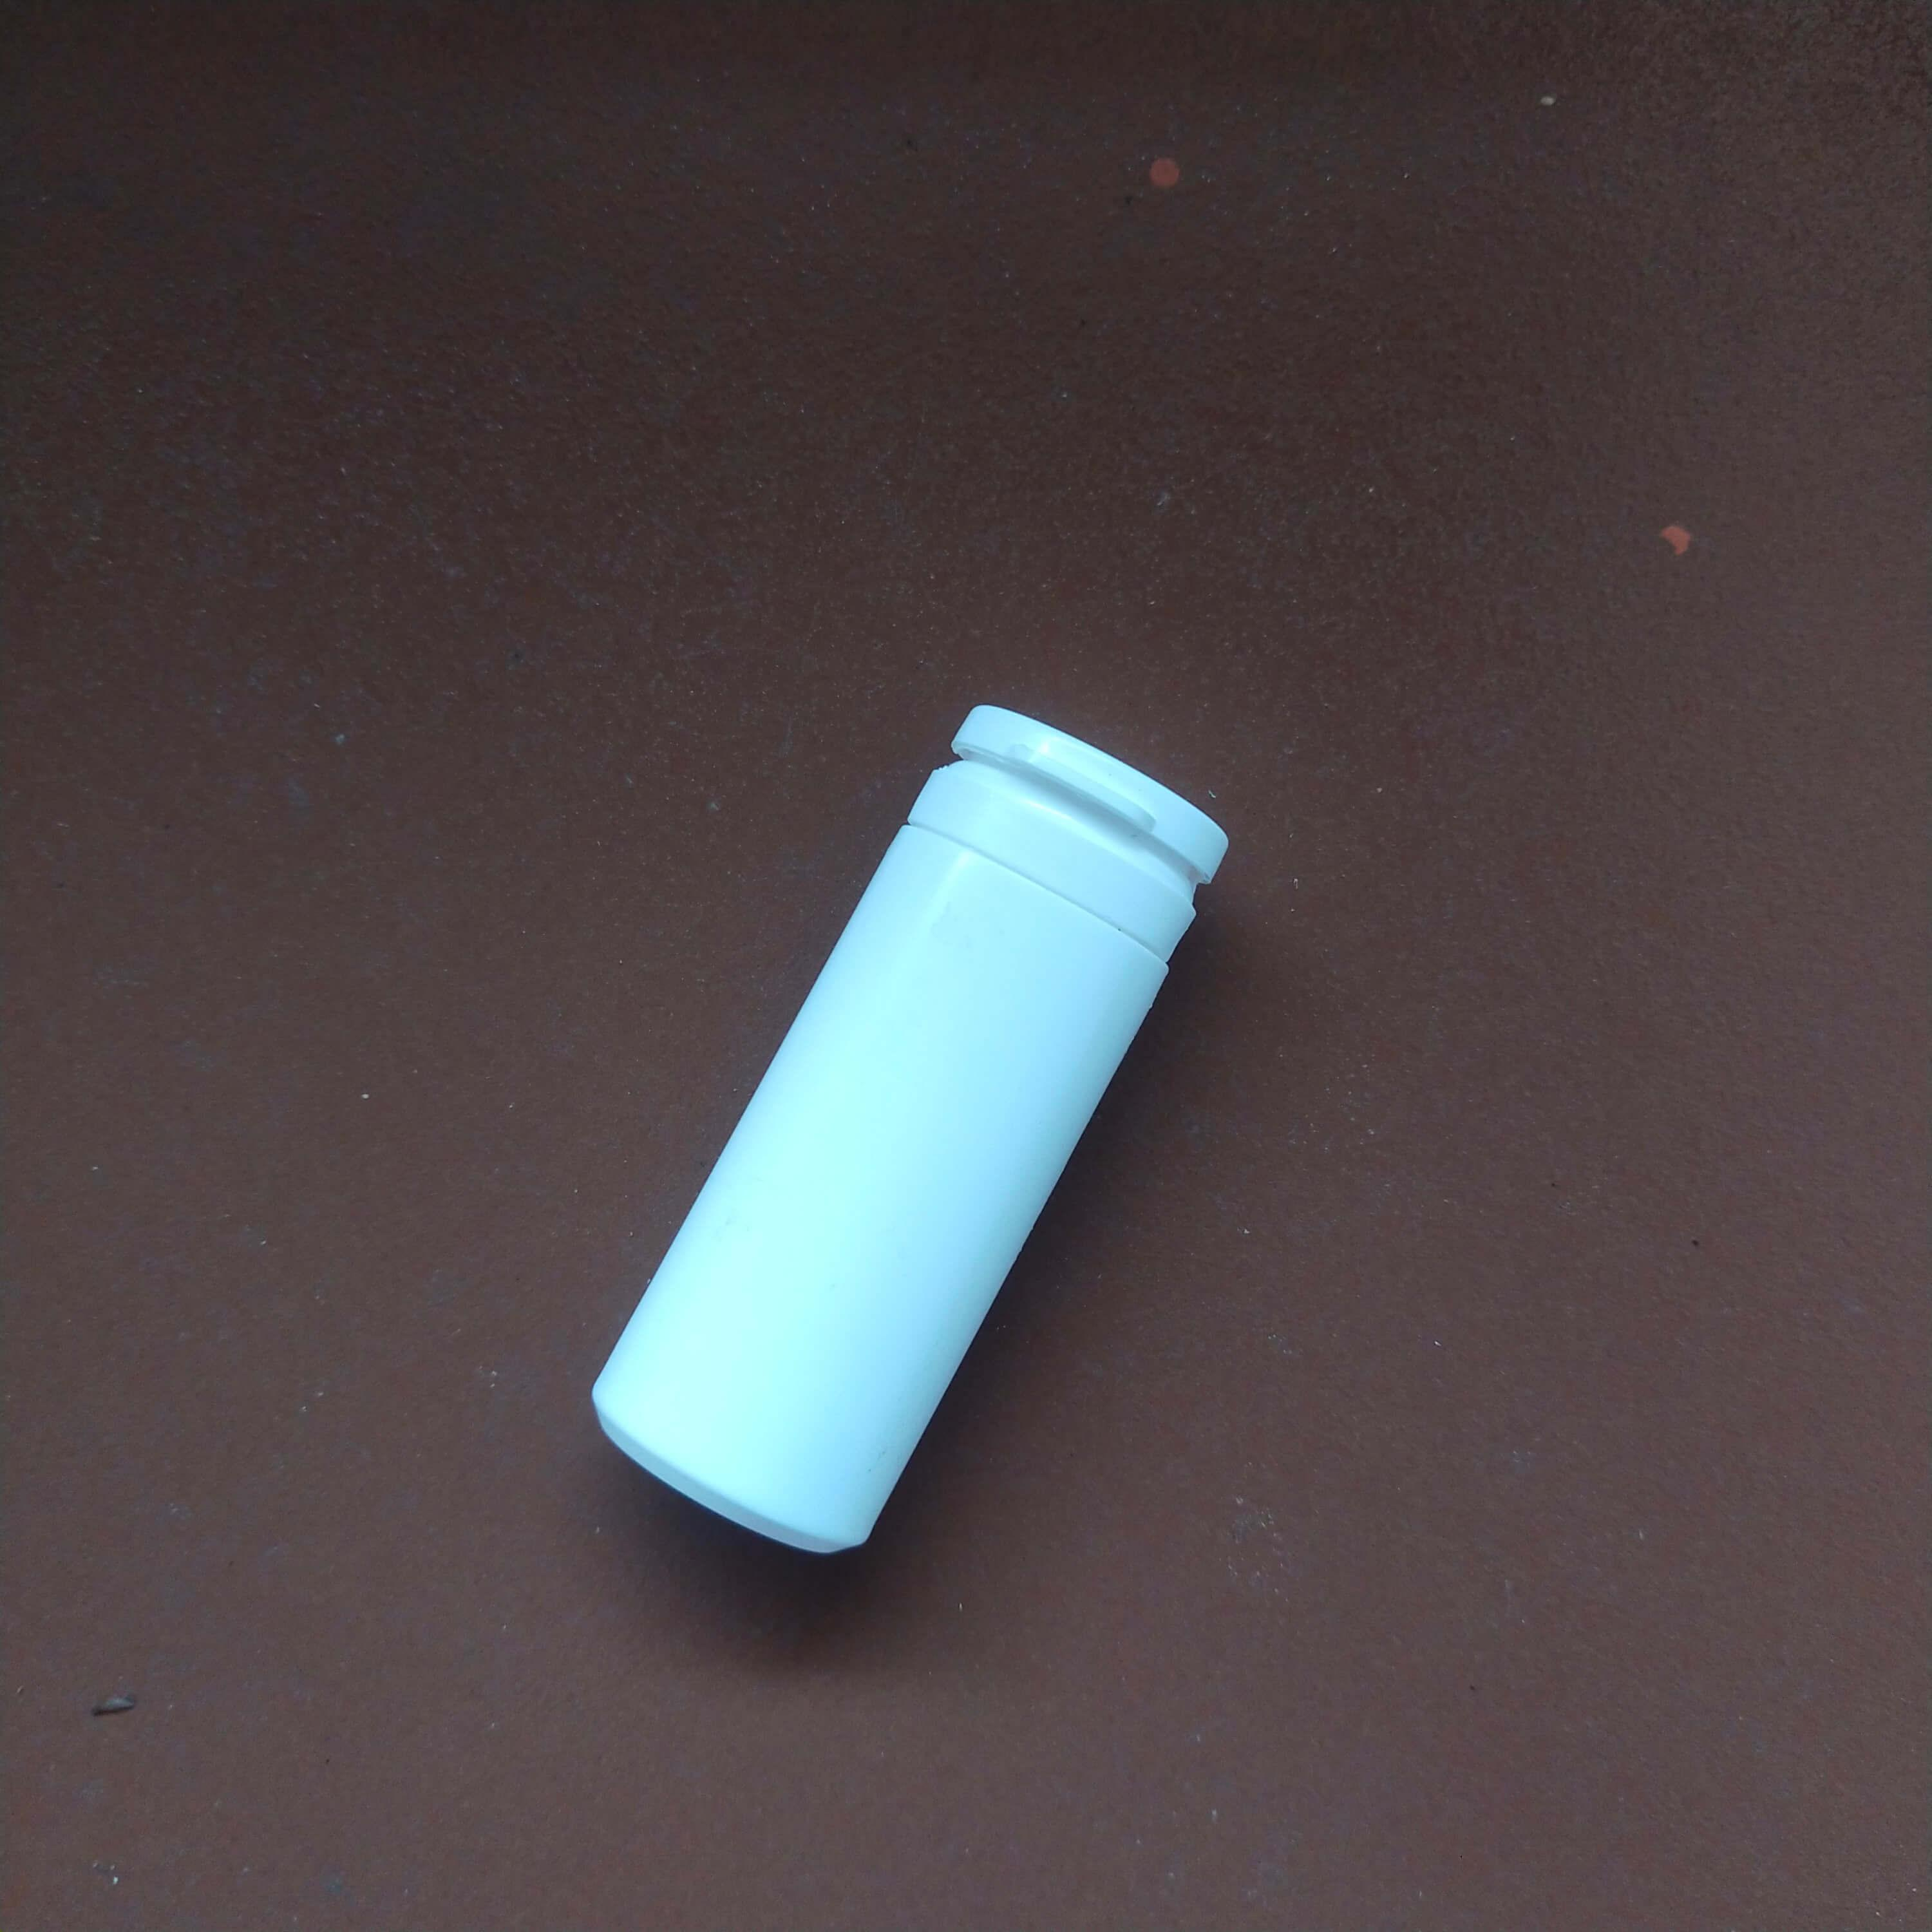plastic box: (557, 686, 1251, 1592)
